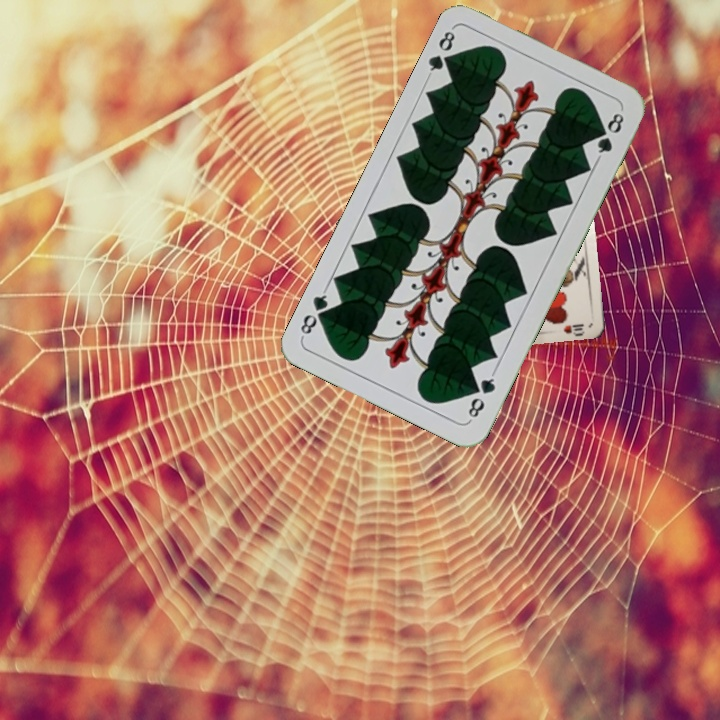G8: (423, 26, 459, 80), (464, 368, 499, 423)
